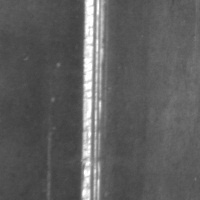scratches: (79, 0, 107, 199)
